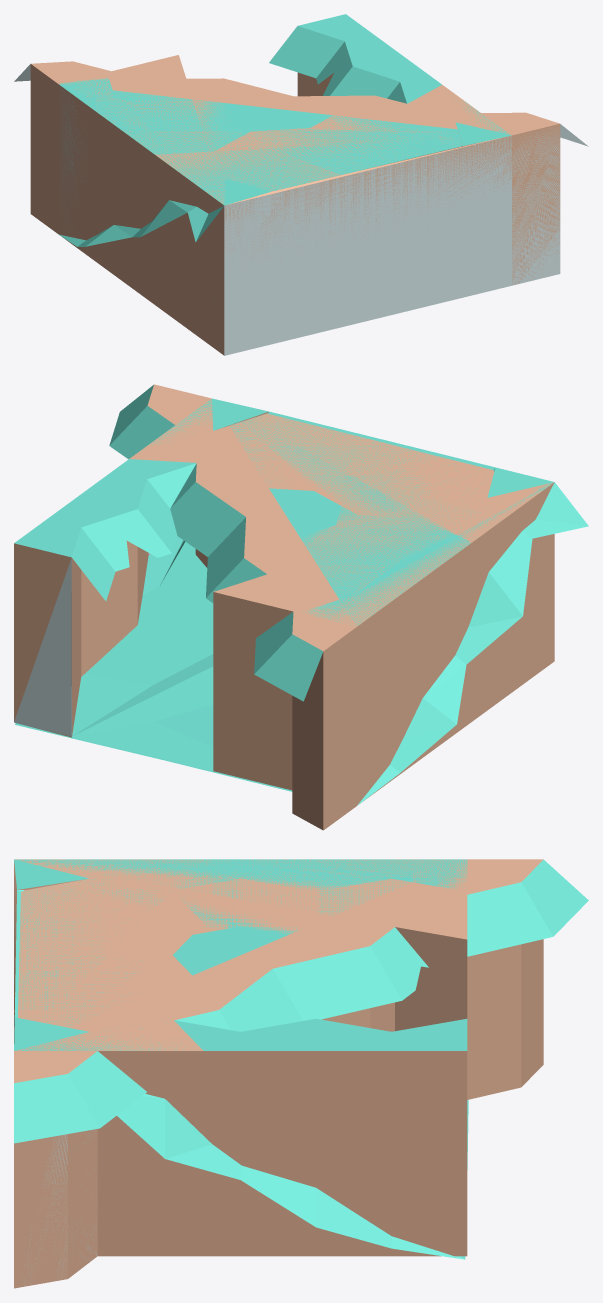
The model's file is cliffs.glb.
The picture shows the model from 3 angles, top to bottom: view 1: azimuth 30°, elevation 25°; view 2: azimuth 150°, elevation 25°; view 3: azimuth 270°, elevation 25°; orthographic projection. The views are drawn at different scales.
Visible parts, largest first — view 1: cliff_blockSlope_stone, cliff_blockDiagonal_rock, cliff_blockSlopeWalls_rock, cliff_diagonal_rock, cliff_cornerInnerLarge_rock, cliff_large_rock, cliff_topDiagonal_stone, cliff_cornerInner_rock, cliff_cornerLarge_rock, cliff_cornerInner_stone, cliff_corner_rock; view 2: cliff_blockSlopeWalls_rock, cliff_cornerInnerLarge_rock, cliff_blockDiagonal_rock, cliff_diagonal_rock, cliff_blockSlope_stone, cliff_large_rock, cliff_blockSlopeWalls_stone, cliff_topDiagonal_rock, cliff_cornerLarge_rock, cliff_cornerInner_rock, cliff_blockSlope_rock; view 3: cliff_blockSlopeWalls_rock, cliff_cornerInnerLarge_rock, cliff_diagonal_rock, cliff_topDiagonal_rock, cliff_large_rock, cliff_blockSlope_rock, cliff_blockDiagonal_rock, cliff_cornerInner_rock, cliff_blockSlope_stone, cliff_cornerLarge_rock, cliff_topDiagonal_stone.
Boxes of the visible parts, box(x1,y1,x2,y2) form: cliff_blockSlope_stone: box(59, 136, 511, 355); cliff_blockDiagonal_rock: box(59, 84, 511, 354); cliff_blockSlopeWalls_rock: box(59, 14, 511, 354); cliff_diagonal_rock: box(30, 61, 560, 285); cliff_cornerInnerLarge_rock: box(96, 55, 508, 202); cliff_large_rock: box(155, 128, 452, 347); cliff_topDiagonal_stone: box(14, 64, 588, 285); cliff_cornerInner_rock: box(58, 78, 509, 239); cliff_cornerLarge_rock: box(155, 146, 340, 354); cliff_cornerInner_stone: box(59, 85, 105, 232); cliff_corner_rock: box(196, 190, 224, 353); cliff_blockSlopeWalls_rock: box(14, 398, 554, 805); cliff_cornerInnerLarge_rock: box(129, 399, 551, 790); cliff_blockDiagonal_rock: box(229, 414, 554, 625); cliff_diagonal_rock: box(147, 384, 356, 830); cliff_blockSlope_stone: box(86, 483, 588, 805); cliff_large_rock: box(177, 413, 548, 721); cliff_blockSlopeWalls_stone: box(14, 540, 213, 770); cliff_topDiagonal_rock: box(109, 385, 323, 701); cliff_cornerLarge_rock: box(386, 458, 554, 706); cliff_cornerInner_rock: box(183, 399, 491, 626); cliff_blockSlope_rock: box(15, 482, 576, 804); cliff_blockSlopeWalls_rock: box(14, 859, 468, 1256); cliff_cornerInnerLarge_rock: box(18, 859, 467, 1256); cliff_diagonal_rock: box(14, 859, 543, 1288); cliff_topDiagonal_rock: box(14, 859, 588, 1143); cliff_large_rock: box(18, 859, 203, 1024); cliff_blockSlope_rock: box(117, 1094, 464, 1259); cliff_blockDiagonal_rock: box(18, 859, 463, 1026); cliff_cornerInner_rock: box(18, 859, 466, 1050); cliff_blockSlope_stone: box(130, 1094, 465, 1259); cliff_cornerLarge_rock: box(17, 859, 202, 922); cliff_topDiagonal_stone: box(20, 1130, 97, 1285).
Bounding box in the file's own units: 1.37 × 0.5124 × 1.27.
